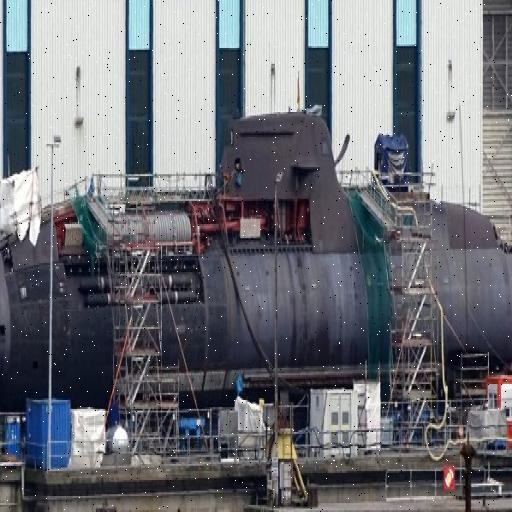submarine: (1, 106, 512, 369)
